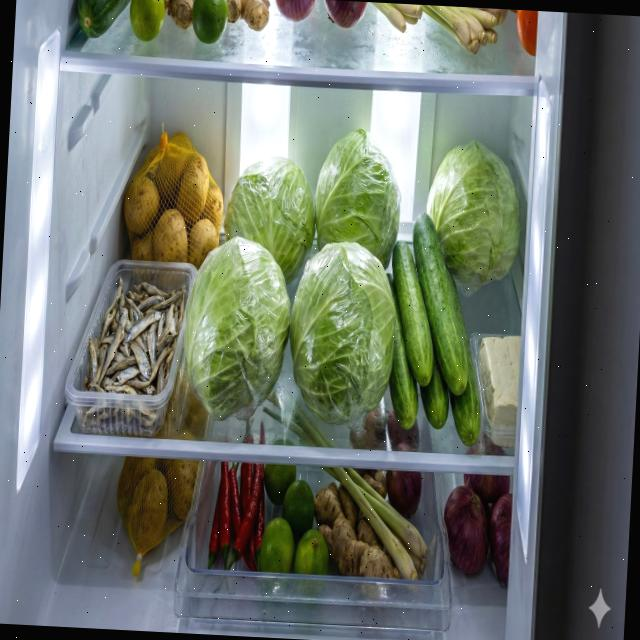anchovies: (80, 274, 187, 434)
cabbage: (180, 233, 294, 424), (285, 238, 400, 427), (422, 137, 526, 288), (311, 125, 405, 272), (220, 152, 319, 286)
chili: (207, 461, 268, 573)
cucumber: (377, 210, 492, 447), (75, 0, 133, 41)
ginger: (311, 466, 408, 580), (224, 0, 271, 32), (161, 0, 197, 31)
lemongrass: (314, 466, 432, 582)
lime: (258, 464, 334, 576), (190, 0, 229, 46), (128, 0, 166, 43)
onion: (441, 473, 514, 584), (384, 469, 424, 518)
potato: (120, 128, 228, 272), (114, 456, 200, 556)
tofu: (475, 334, 521, 448)
